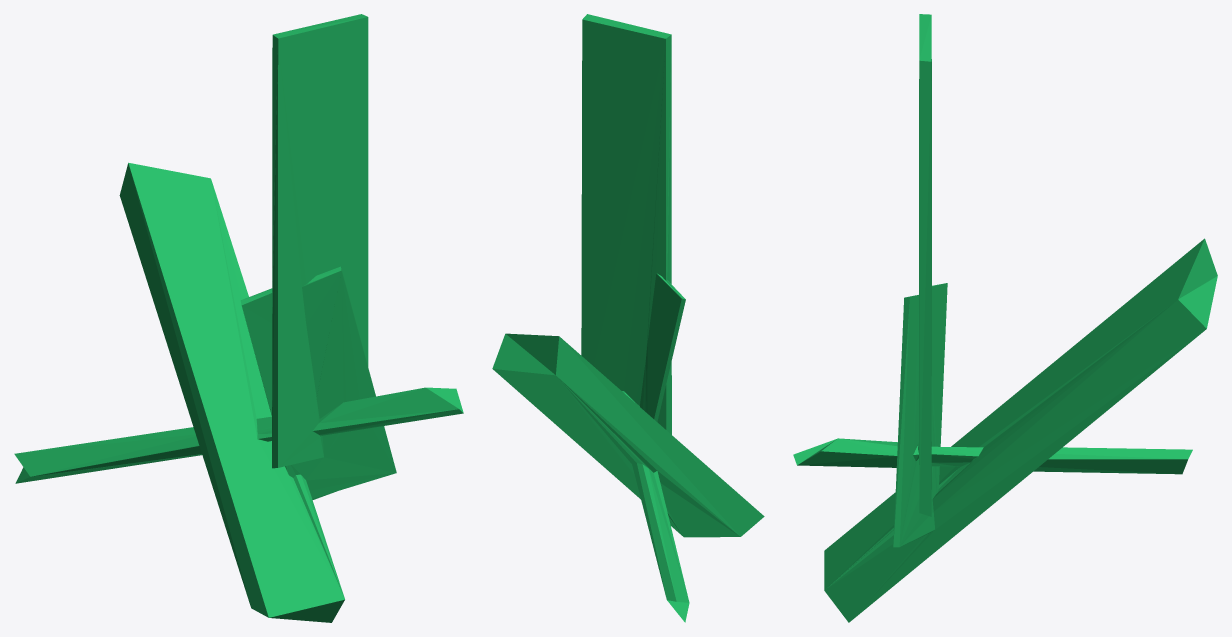
3 renders of one model, left to right at view 1: azimuth 30°, elevation 25°; view 2: azimuth 150°, elevation 25°; view 3: azimuth 270°, elevation 25°, orthographic. The views are drawn at different scales.
Visible parts, largest first — view 1: 960_Cube.3884; view 2: 960_Cube.3884; view 3: 960_Cube.3884.
Part boxes in pixels (box(x1,y1,x2,y2)): 960_Cube.3884: box(14, 14, 463, 622); 960_Cube.3884: box(492, 14, 764, 622); 960_Cube.3884: box(793, 14, 1217, 622).
Size of the model in its own units: 7.89 by 15.74 by 10.13.
